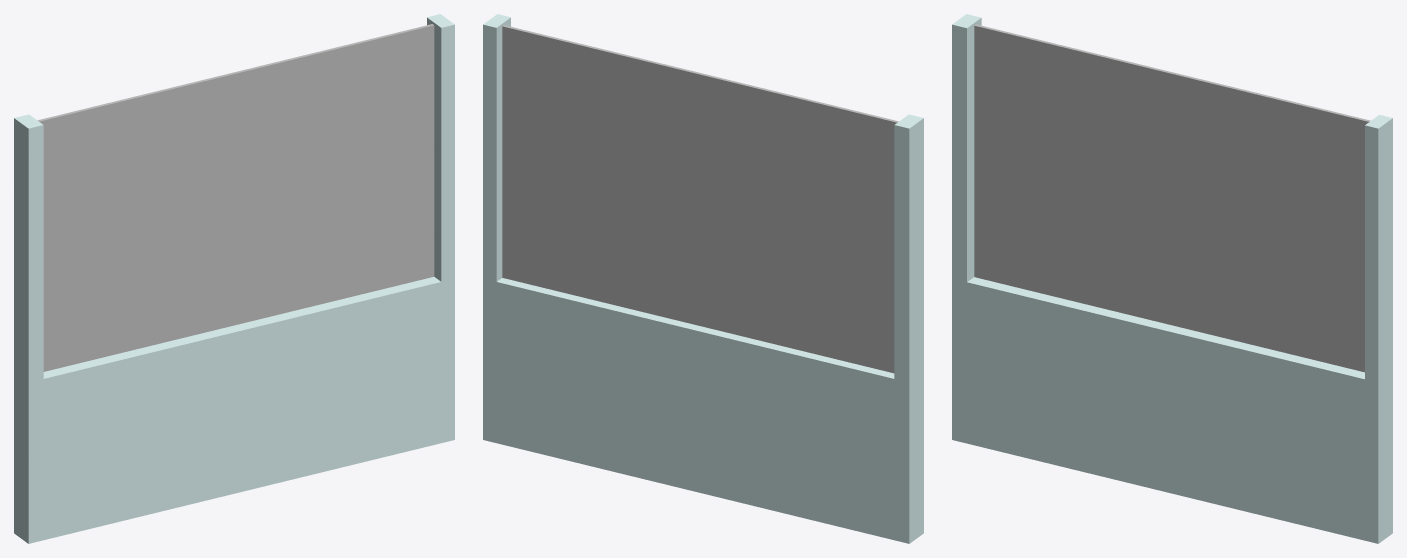
File: fence_3.fbx
3 renders of one model, left to right at view 1: azimuth 30°, elevation 25°; view 2: azimuth 150°, elevation 25°; view 3: azimuth 330°, elevation 25°, orthographic.
Parts seen in each view (by area): view 1: fence_3; view 2: fence_3; view 3: fence_3.
Boxes of the visible parts, <box> form: fence_3: <box>14,14,454,543</box>; fence_3: <box>483,14,923,543</box>; fence_3: <box>952,14,1392,543</box>.
Bounding box in the file's own units: 3.27 × 3.04 × 0.1927.
